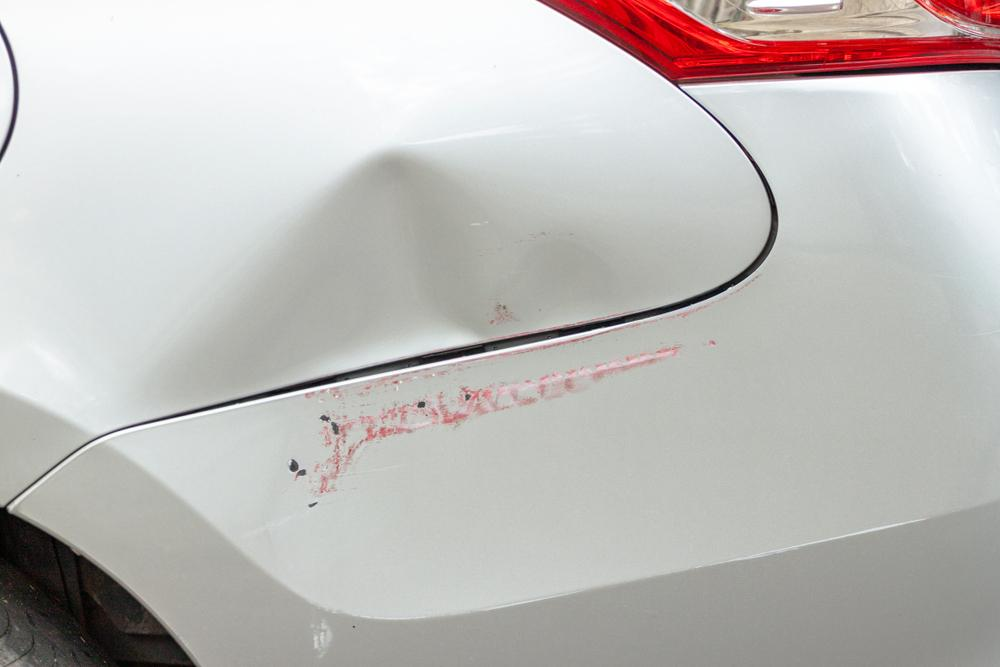dent: (148, 143, 629, 419)
scratch: (280, 273, 771, 509)
